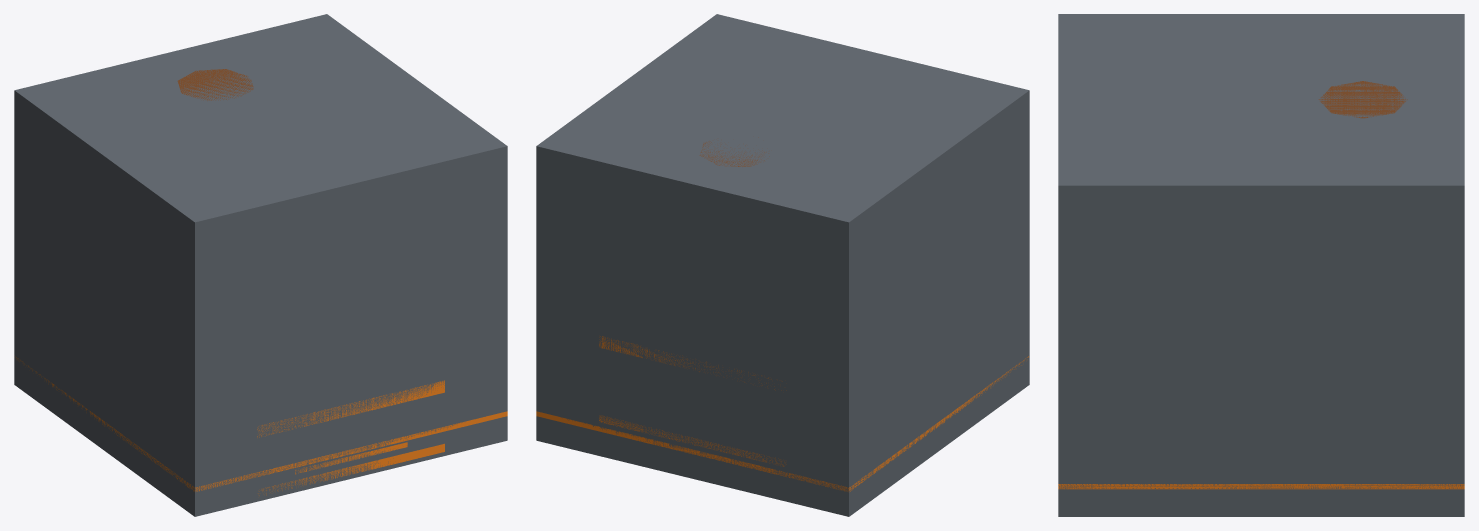
File: smelter.glb
3 views of the same model, side by side, from view 1: azimuth 30°, elevation 25°; view 2: azimuth 150°, elevation 25°; view 3: azimuth 270°, elevation 25° (orthographic). The views are drawn at different scales.
Visible parts, largest first — view 1: col_Smelter, Smelter_LOD0; view 2: col_Smelter, Smelter_LOD0; view 3: col_Smelter, Smelter_LOD0.
Part boxes in pixels (left/top/right/bottom): col_Smelter: left=14, top=14, right=507, bottom=516; Smelter_LOD0: left=14, top=69, right=507, bottom=516; col_Smelter: left=536, top=14, right=1029, bottom=516; Smelter_LOD0: left=536, top=137, right=1028, bottom=516; col_Smelter: left=1058, top=14, right=1464, bottom=516; Smelter_LOD0: left=1058, top=81, right=1464, bottom=516.
Size of what is drawn, in the model's own units: 4 by 3.6 by 4.
